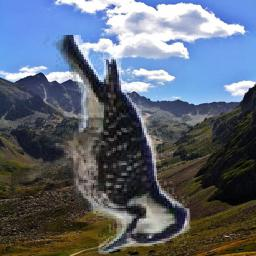Woodpecker: (11, 35, 191, 255)
